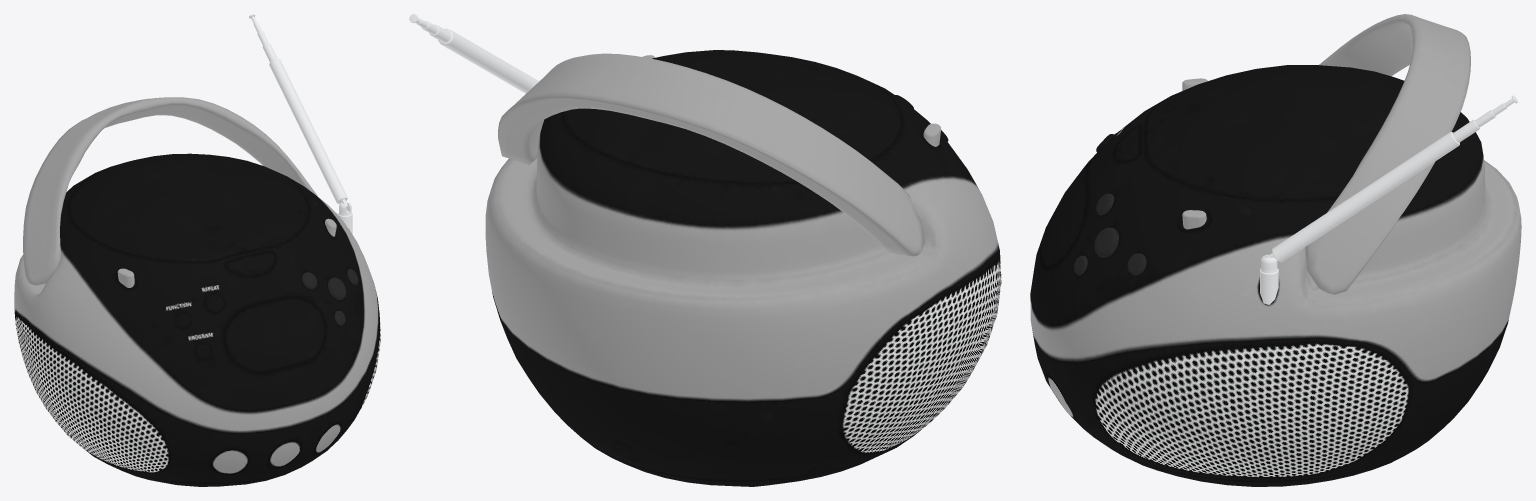
Rendered from boom-box.glb.
The picture shows the model from 3 angles, left to right: view 1: azimuth 30°, elevation 25°; view 2: azimuth 150°, elevation 25°; view 3: azimuth 270°, elevation 25°; orthographic projection. The views are drawn at different scales.
Visible parts, largest first — view 1: BoomBox; view 2: BoomBox; view 3: BoomBox.
Part boxes in pixels (box(x1,y1,x2,y2)): BoomBox: box(14, 14, 380, 486); BoomBox: box(409, 14, 1001, 486); BoomBox: box(1030, 14, 1521, 486).
Bounding box in the file's own units: 0.0198 × 0.0195 × 0.0202.
1 material, 1 textured.
